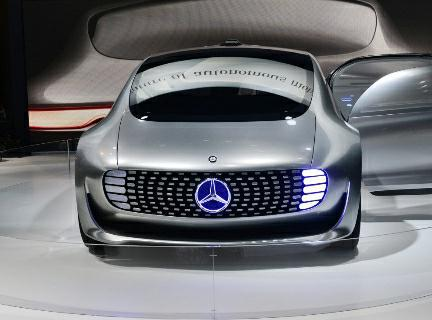奔驰-F015: (67, 54, 369, 263)
